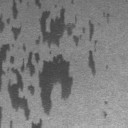red iron: (0, 0, 98, 128), (88, 50, 96, 76), (102, 12, 112, 23), (0, 106, 3, 128), (103, 112, 108, 118), (10, 120, 13, 128), (70, 0, 74, 5), (104, 100, 108, 104)
